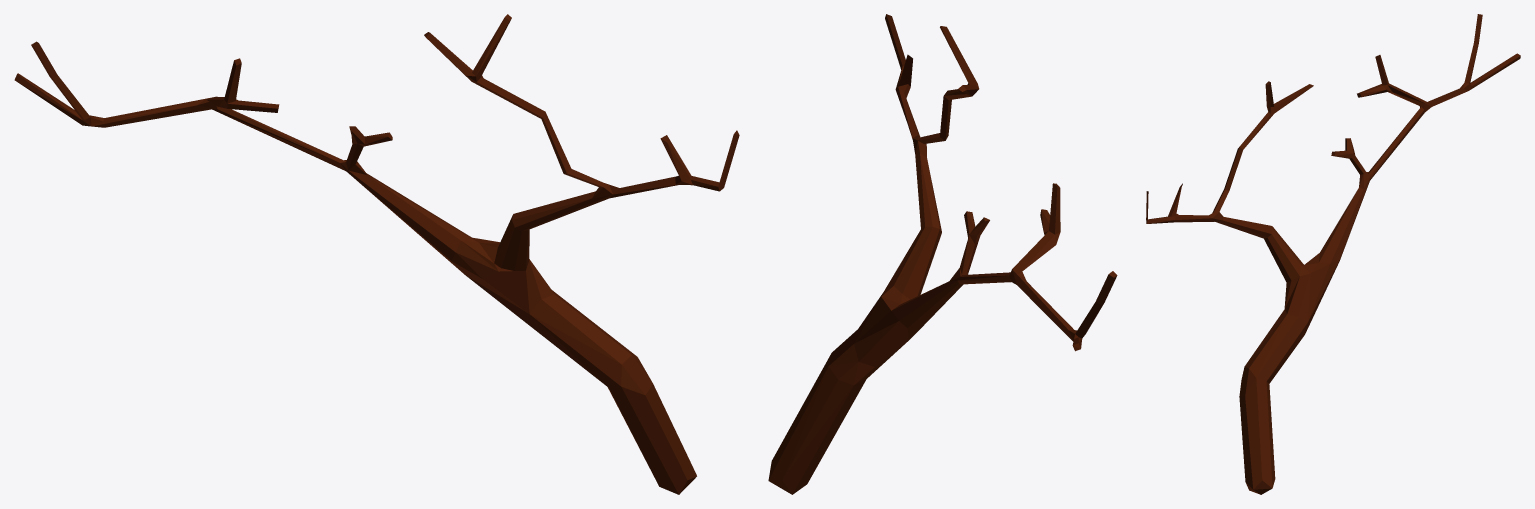
File: low-poly-drytree2.obj
3 views of the same model, side by side, from view 1: azimuth 30°, elevation 25°; view 2: azimuth 150°, elevation 25°; view 3: azimuth 270°, elevation 25° (orthographic). The views are drawn at different scales.
Parts seen in each view (by area): view 1: Cube_Cube.001; view 2: Cube_Cube.001; view 3: Cube_Cube.001.
Part boxes in pixels (left/top/right/bottom): Cube_Cube.001: left=14, top=14, right=739, bottom=494; Cube_Cube.001: left=768, top=14, right=1117, bottom=494; Cube_Cube.001: left=1146, top=14, right=1520, bottom=494.
Size of the model in its own units: 6.05 by 5.85 by 5.58.
